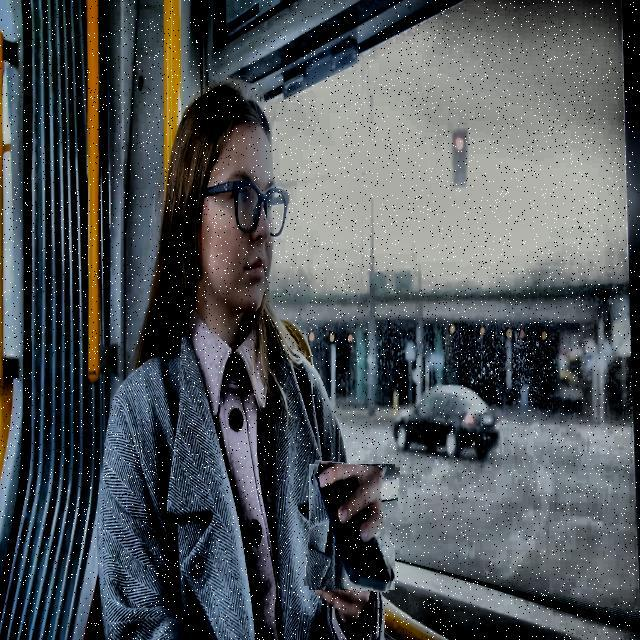Phone: (306, 462, 398, 592)
